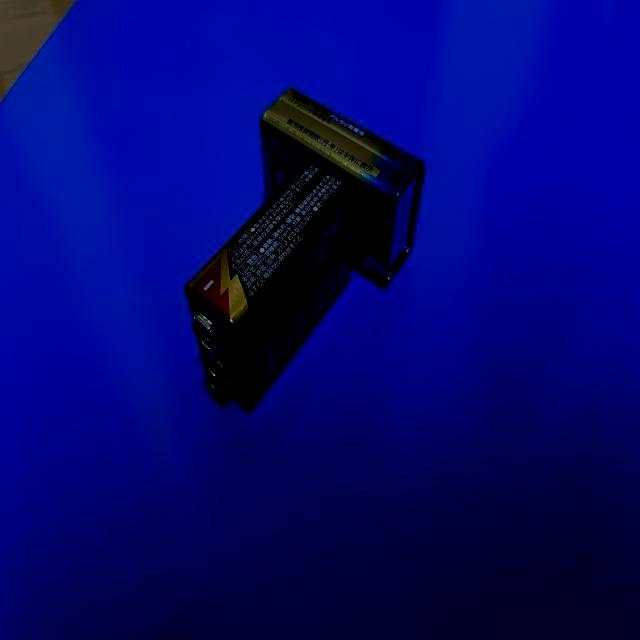9V: (184, 153, 357, 415), (260, 89, 427, 290)
